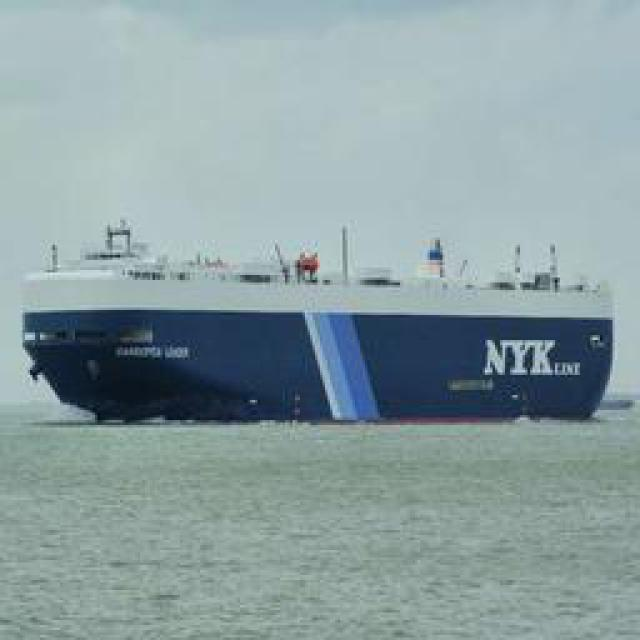Ship: (21, 212, 616, 422)
